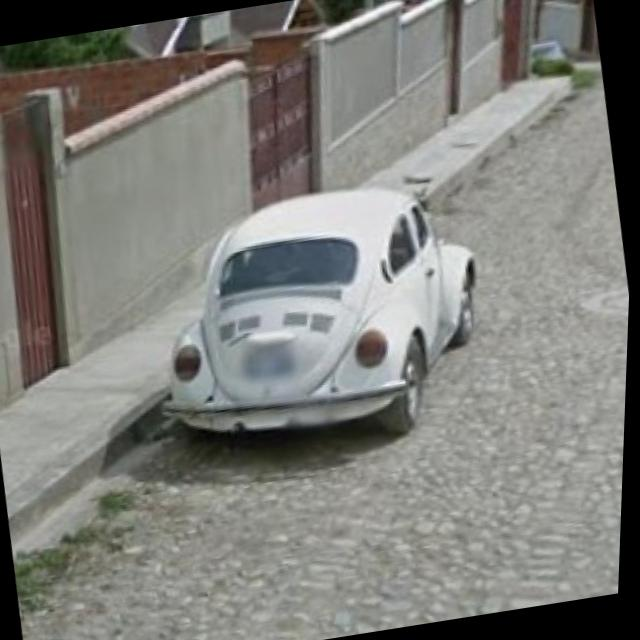vehicle: (143, 174, 480, 422)
